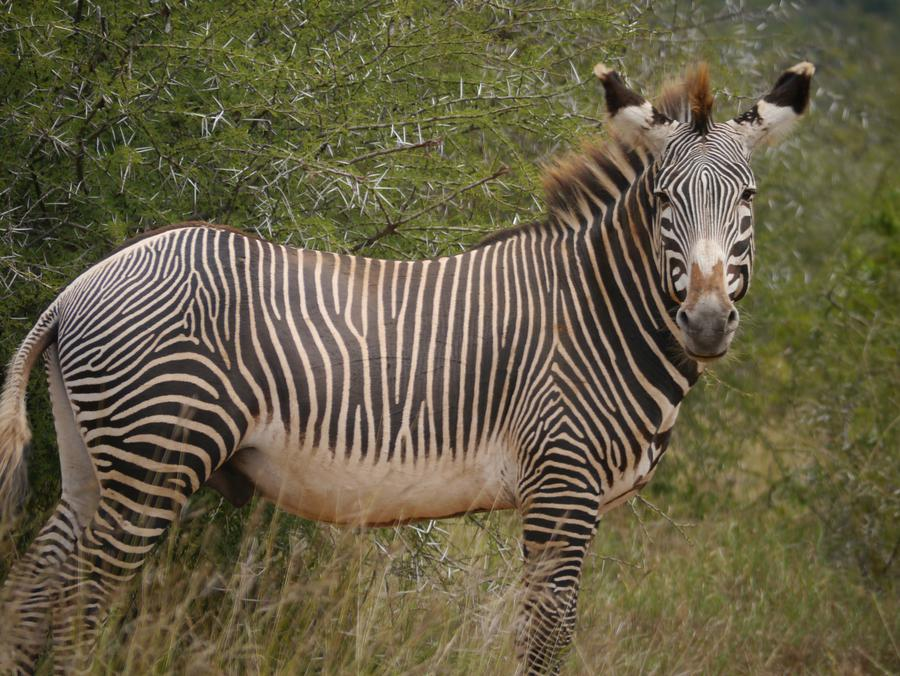zebra_grevys: (43, 218, 613, 500)
